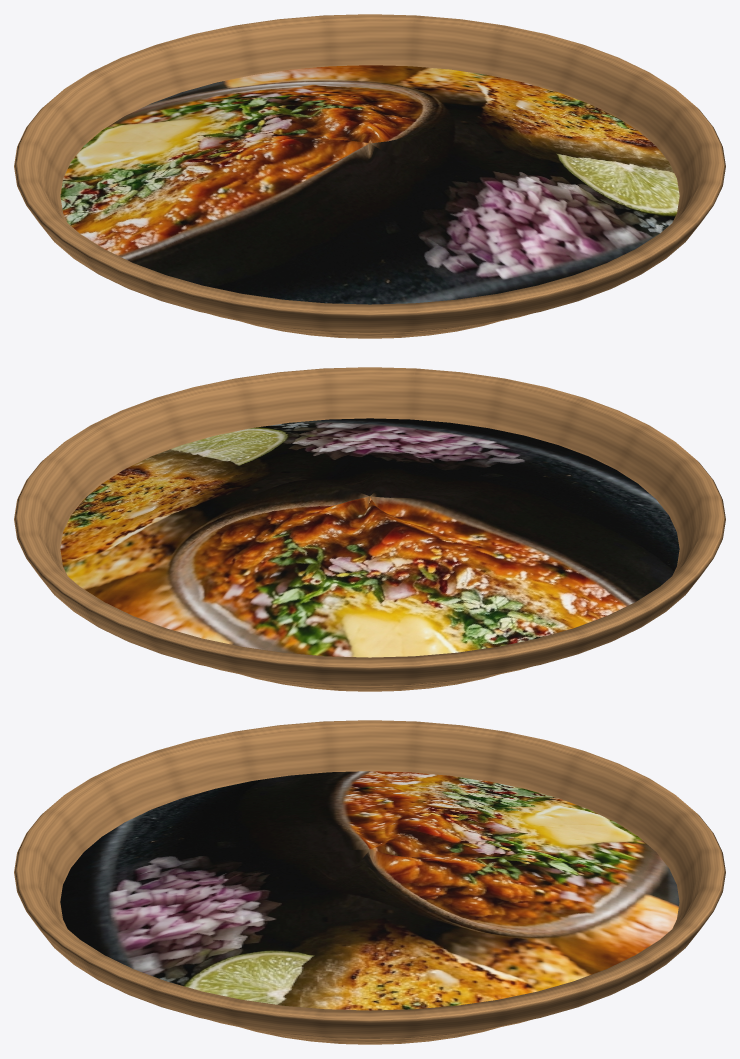
The model's file is pav-bhaji.glb.
The picture shows the model from 3 angles, top to bottom: view 1: azimuth 30°, elevation 25°; view 2: azimuth 150°, elevation 25°; view 3: azimuth 270°, elevation 25°; orthographic projection.
Parts seen in each view (by area): view 1: FoodMound, BambooBowl; view 2: FoodMound, BambooBowl; view 3: FoodMound, BambooBowl.
Part boxes in pixels (left/top/right/bottom): FoodMound: left=60, top=65, right=679, bottom=304; BambooBowl: left=14, top=14, right=725, bottom=338; FoodMound: left=60, top=418, right=679, bottom=657; BambooBowl: left=14, top=367, right=725, bottom=691; FoodMound: left=60, top=771, right=679, bottom=1010; BambooBowl: left=14, top=720, right=725, bottom=1044.
Size of the model in its own units: 0.26 by 0.042 by 0.26.
2 materials, 2 textured.
